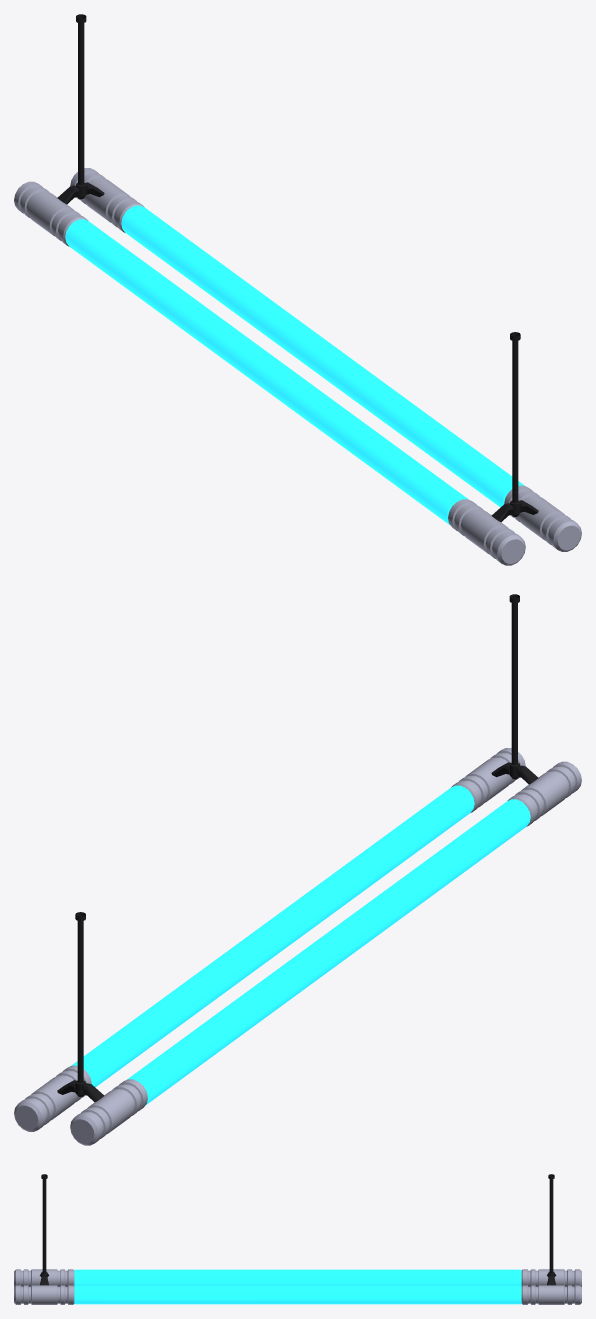
The model's file is Light_Tube_01_Double.glb.
The picture shows the model from 3 angles, top to bottom: view 1: azimuth 30°, elevation 25°; view 2: azimuth 150°, elevation 25°; view 3: azimuth 270°, elevation 25°; orthographic projection. The views are drawn at different scales.
Parts seen in each view (by area): view 1: Light_Tube_01_Double.001; view 2: Light_Tube_01_Double.001; view 3: Light_Tube_01_Double.001.
Part boxes in pixels (<box>): Light_Tube_01_Double.001: <box>14,14,581,565</box>; Light_Tube_01_Double.001: <box>14,594,581,1145</box>; Light_Tube_01_Double.001: <box>14,1174,581,1304</box>.
Bounding box in the file's own units: 0.2153 × 0.5005 × 2.14.
